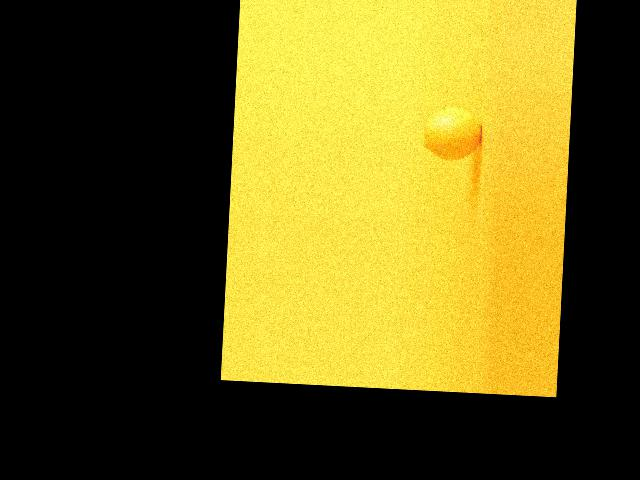lemon: (415, 96, 487, 170)
